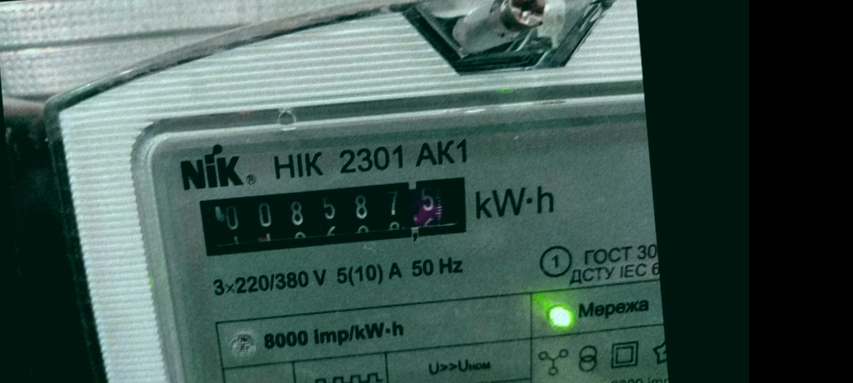0: (220, 202, 240, 233), (254, 200, 274, 230)
5: (418, 186, 437, 216), (318, 194, 337, 223)
7: (382, 188, 401, 219)
8: (350, 191, 369, 223), (286, 199, 305, 228)
screen: (179, 162, 487, 270)
